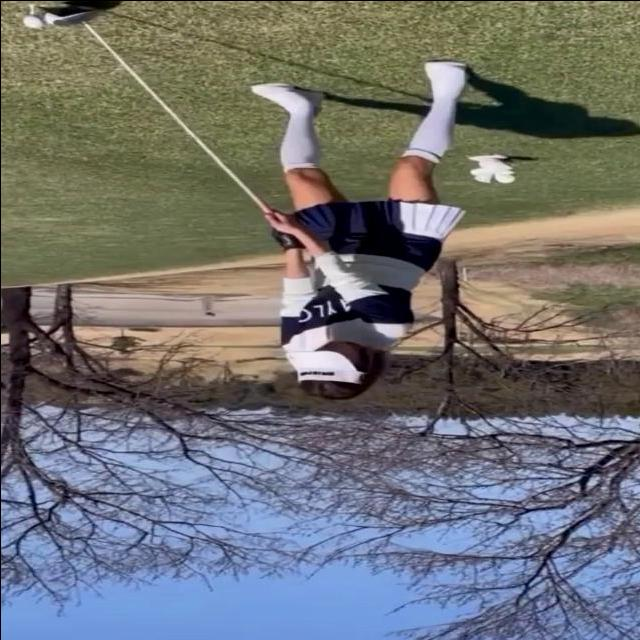golf ball: (21, 15, 41, 27)
golf club-handle: (30, 5, 275, 215)
golf club-head: (31, 5, 99, 26)
